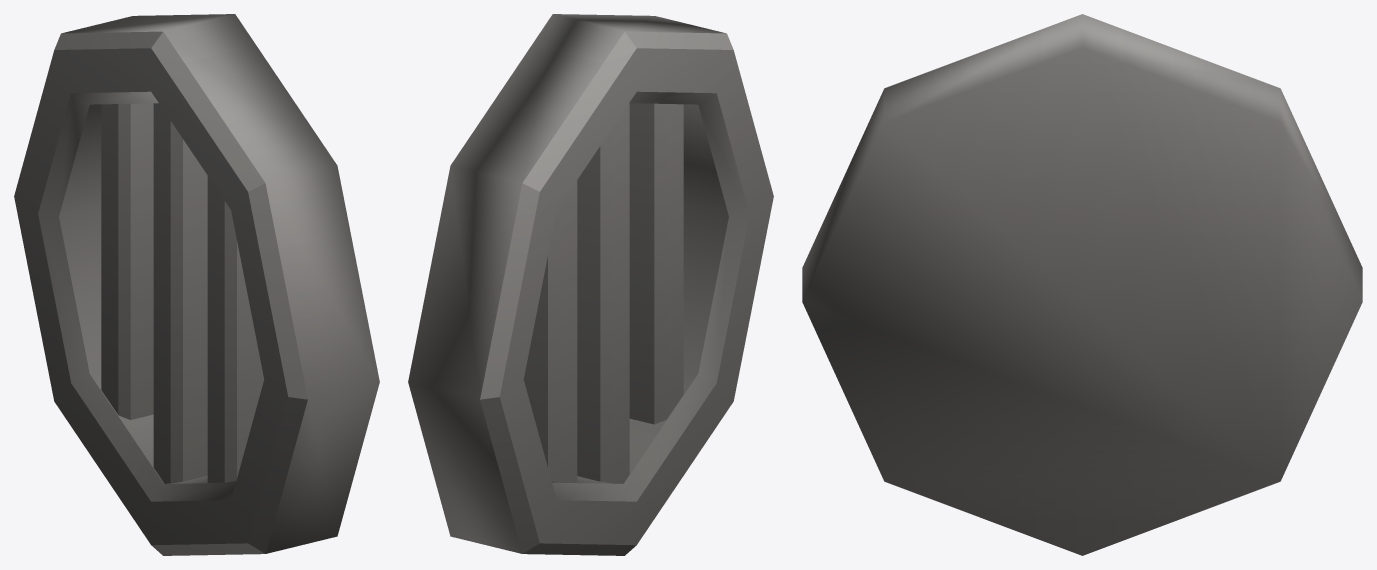
File: dungeonkit_decor_vent.fbx
The picture shows the model from 3 angles, left to right: view 1: azimuth 30°, elevation 25°; view 2: azimuth 150°, elevation 25°; view 3: azimuth 270°, elevation 25°; orthographic projection. The views are drawn at different scales.
Visible parts, largest first — view 1: Cube.011; view 2: Cube.011; view 3: Cube.011.
Boxes of the visible parts, box(x1,y1,x2,y2) form: Cube.011: box(14, 14, 379, 555); Cube.011: box(408, 14, 773, 555); Cube.011: box(802, 14, 1362, 555).
Size of the model in its own units: 18.51 by 110 by 110.
